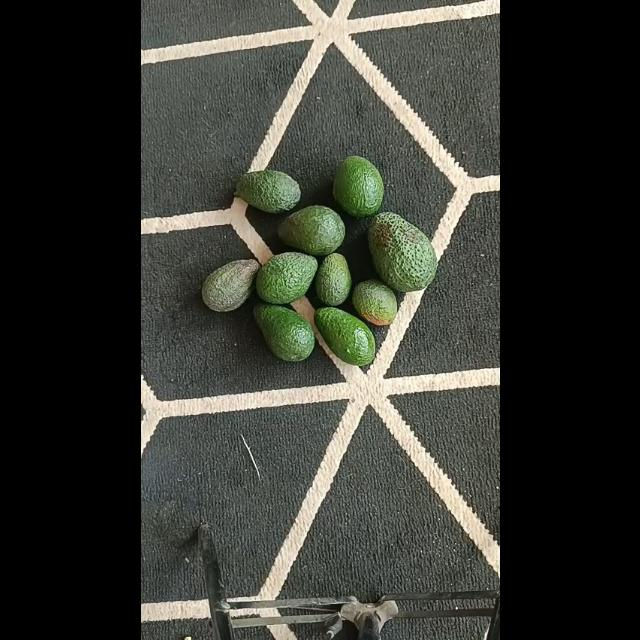Primera: (366, 212, 436, 290)
Segunda: (313, 306, 375, 366), (252, 303, 314, 362), (279, 205, 345, 255), (255, 251, 318, 303), (332, 155, 384, 217)
Tercera: (200, 258, 260, 312), (234, 169, 300, 213), (351, 278, 397, 326), (314, 252, 352, 306)
